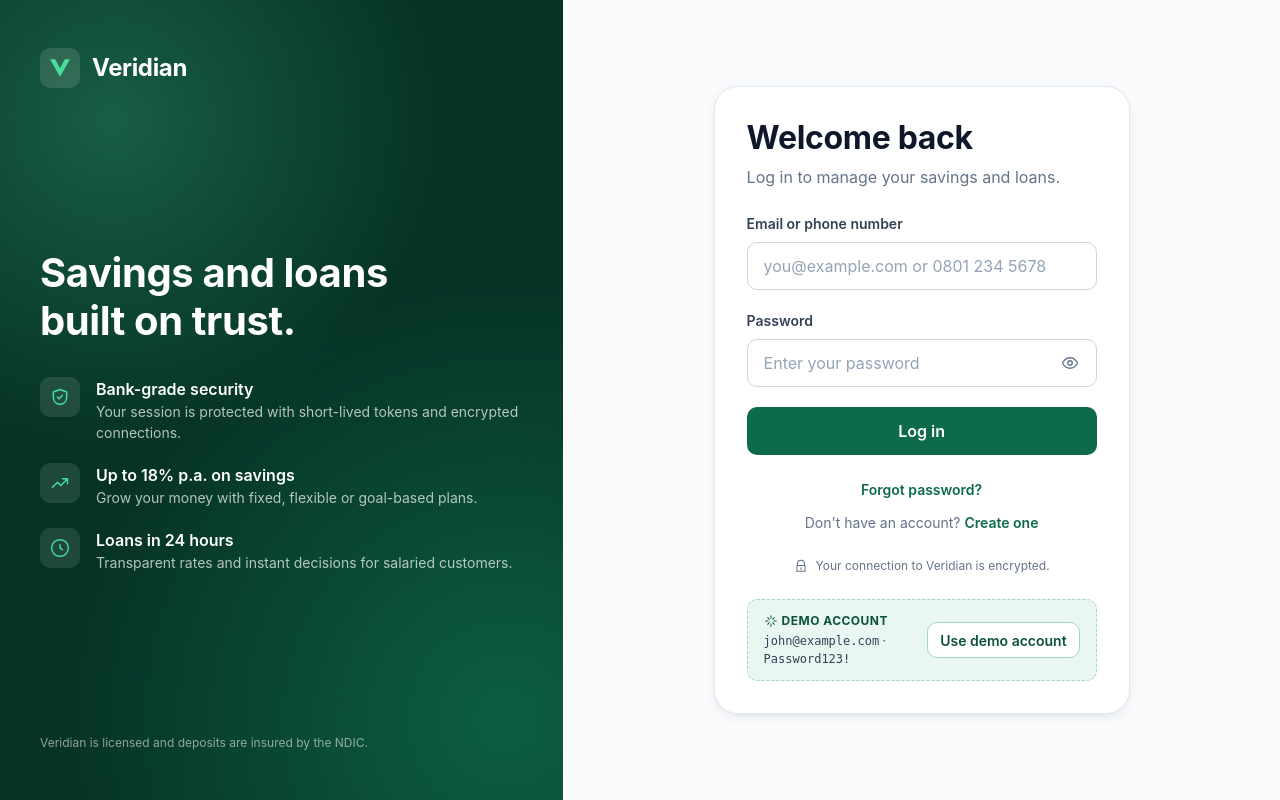
Scenario: application flows › redirects unauthenticated visitors from a protected route to /login and back after signing in
This screenshot has width=1280, height=800.
Check: the heading "Welcome back" is shown, box [747,118,973,157]
Type "john@example.com" into the field labelled "Email or phone number" at (922, 266), box [748,243,1096,289]
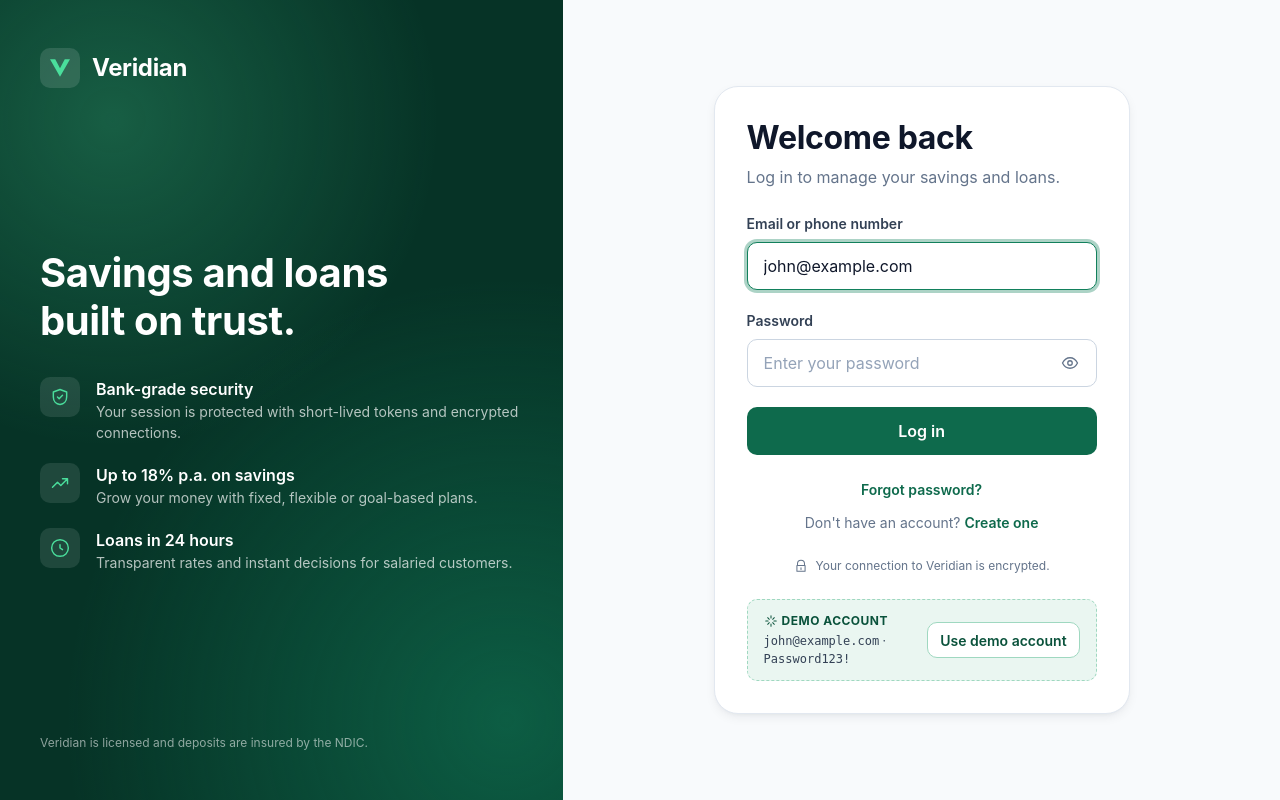
Type "Password123!" into the password field labelled "Password" at (900, 363), box [748,340,1052,386]
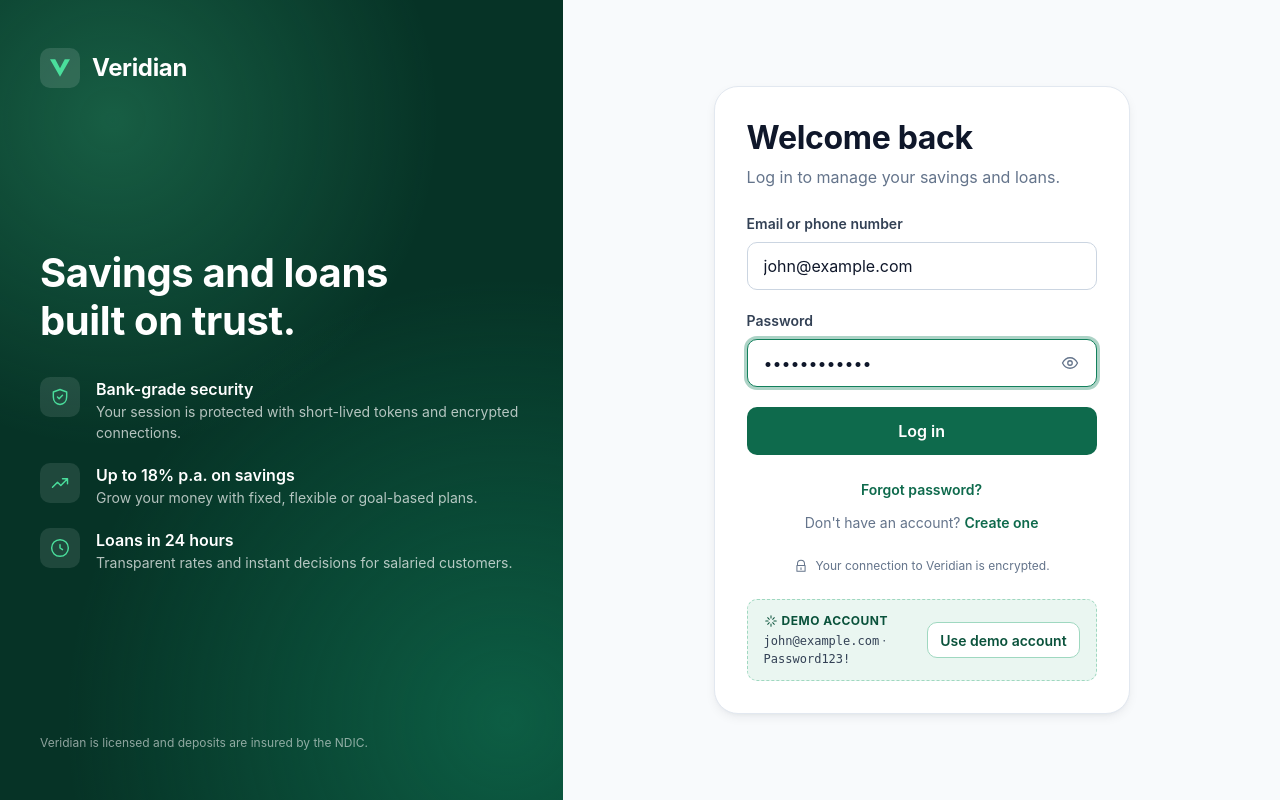
Click the button "Log in" at (922, 431), box [747,407,1097,455]
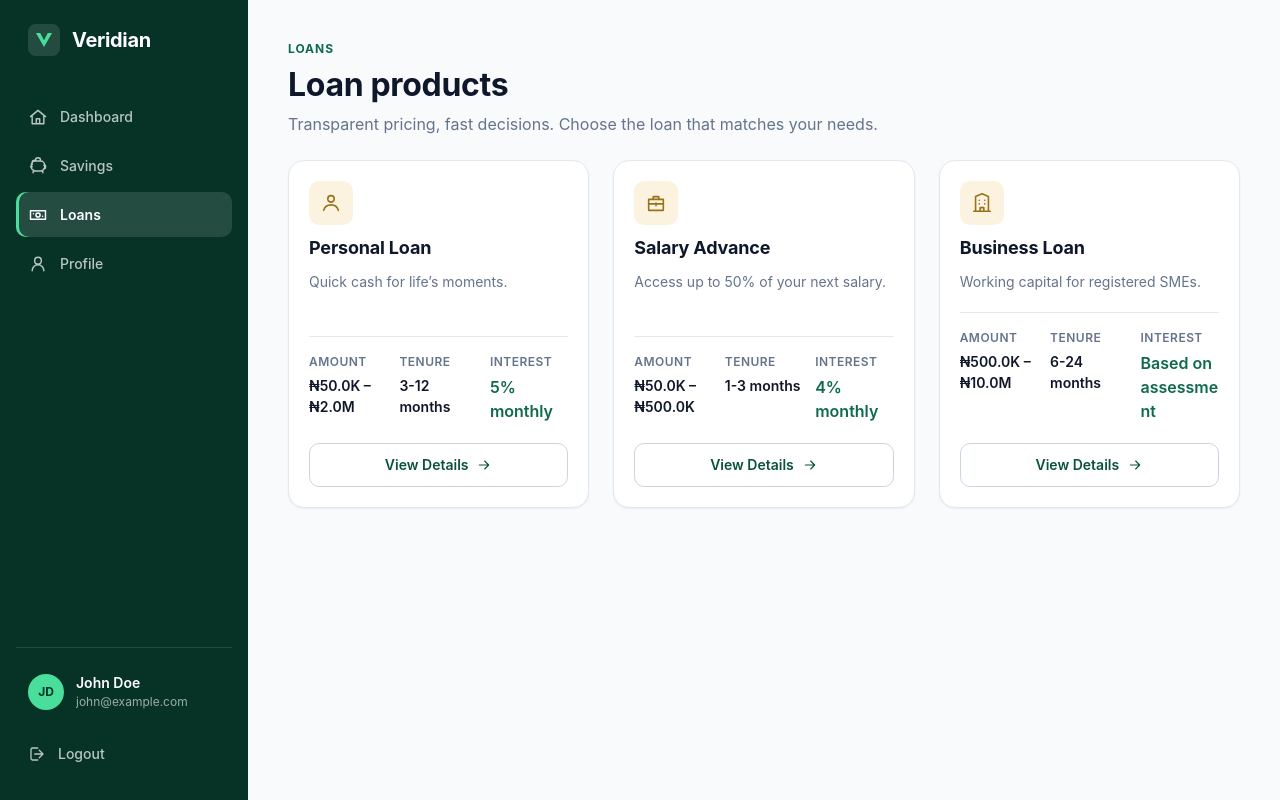
Check: the heading "Loan products" is shown, box [288,65,508,104]
